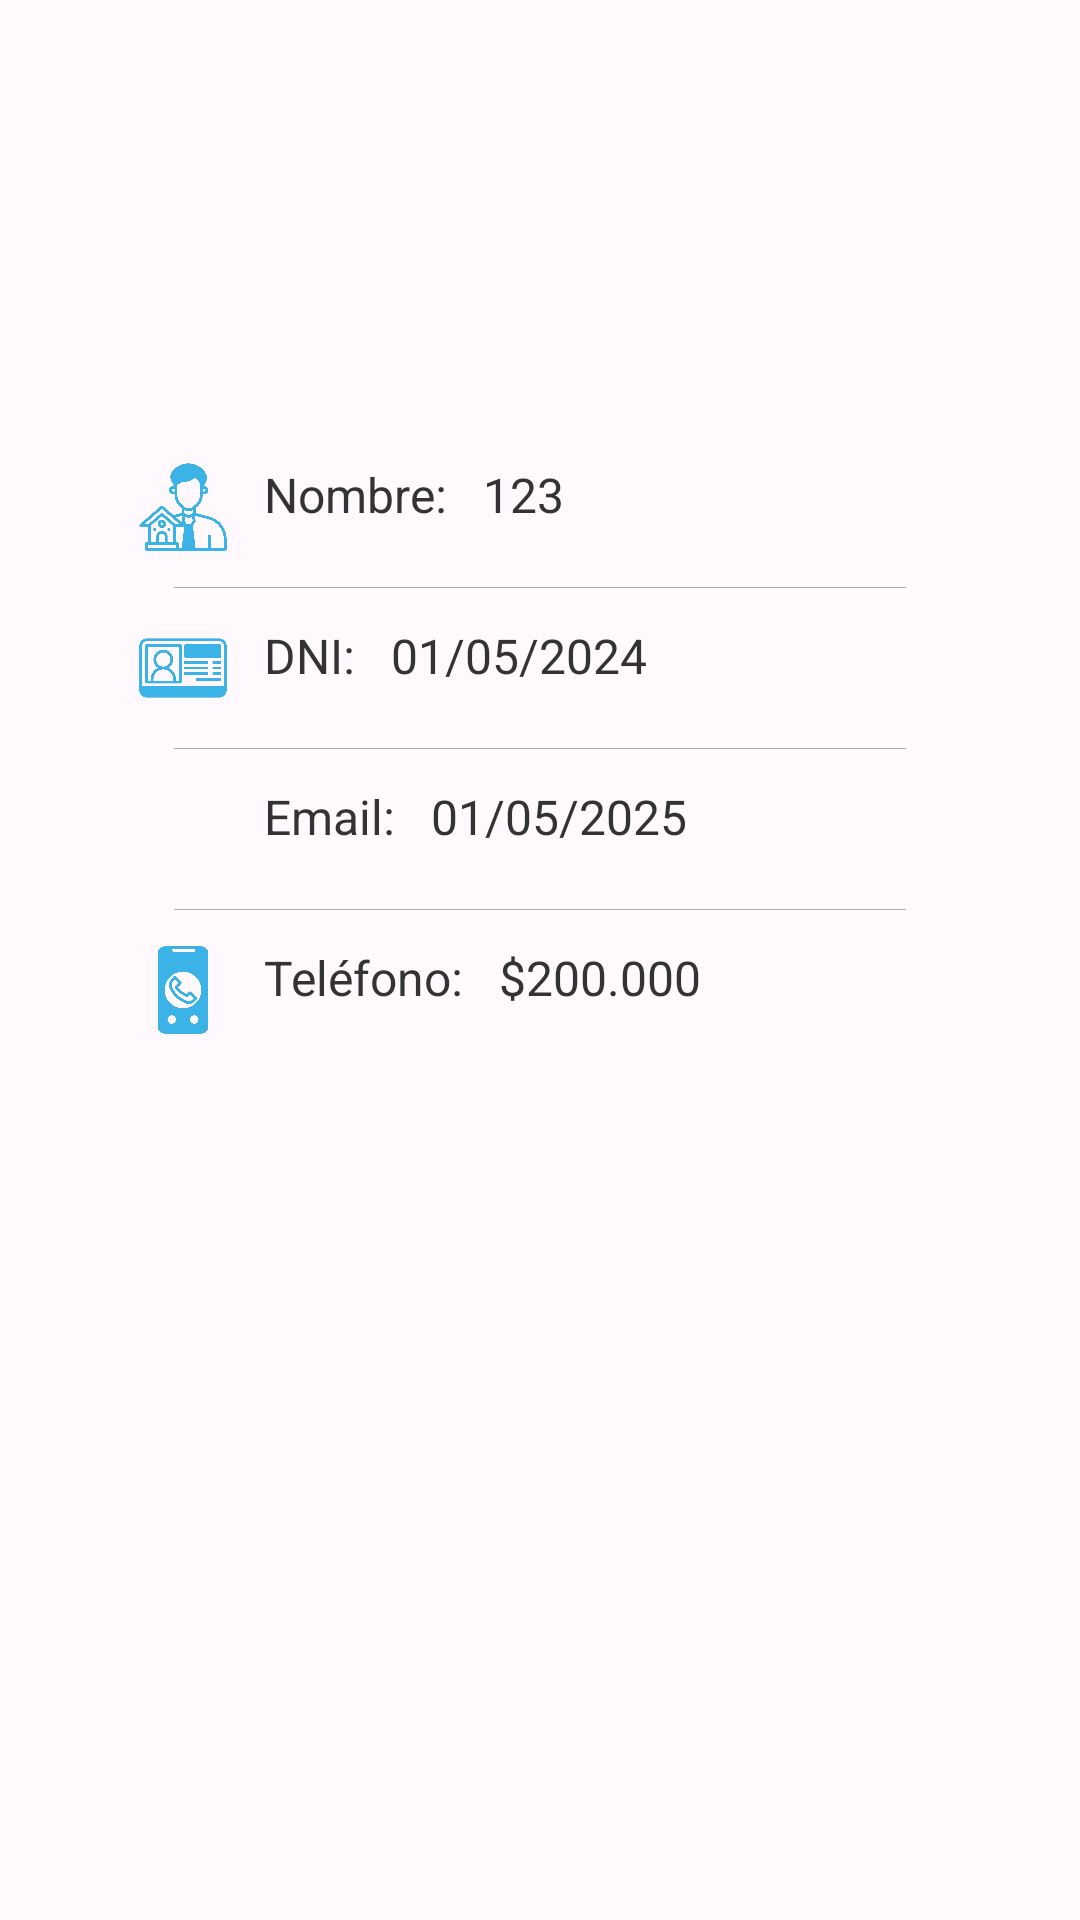

Where icons sit on this 1080 x 1920 app screen, as bbox(x1, y1, x2, y2):
duenio: bbox(139, 463, 227, 551)
telefono: bbox(158, 946, 208, 1034)
